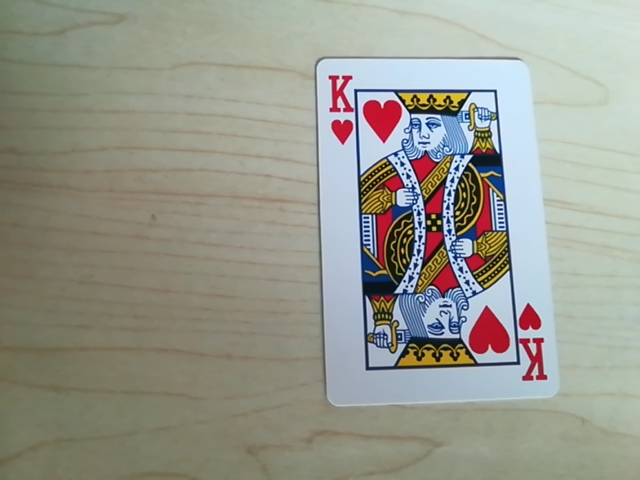hx k: (513, 324, 550, 388), (321, 68, 359, 128)
